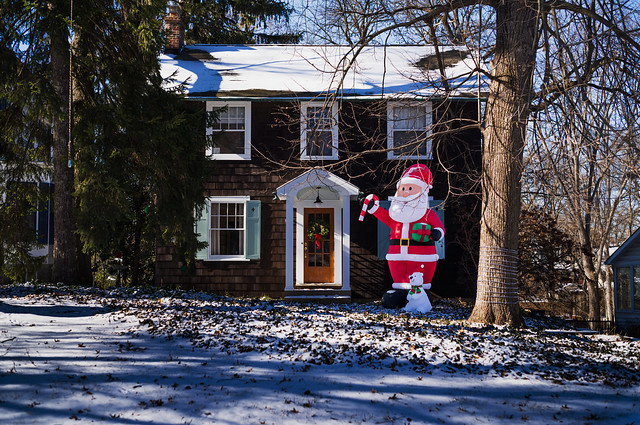low: (125, 37, 517, 310)
